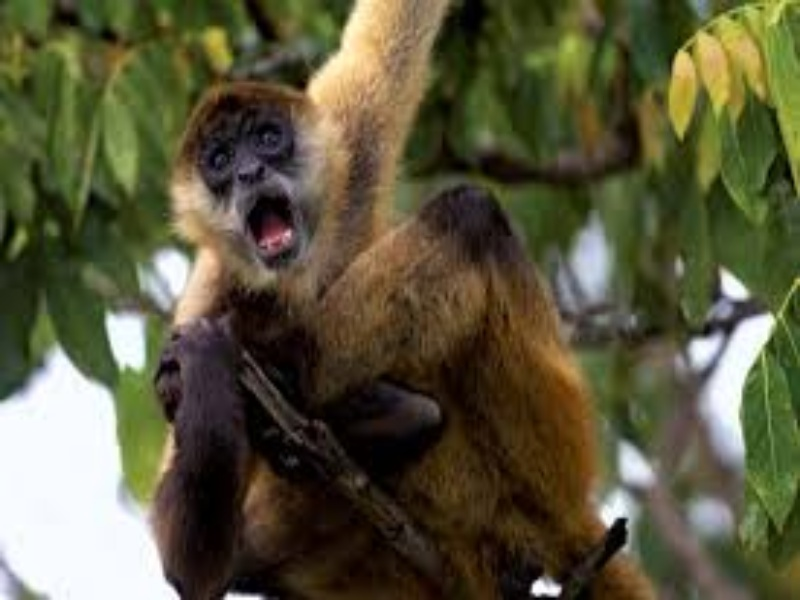monkey: (135, 8, 647, 596)
